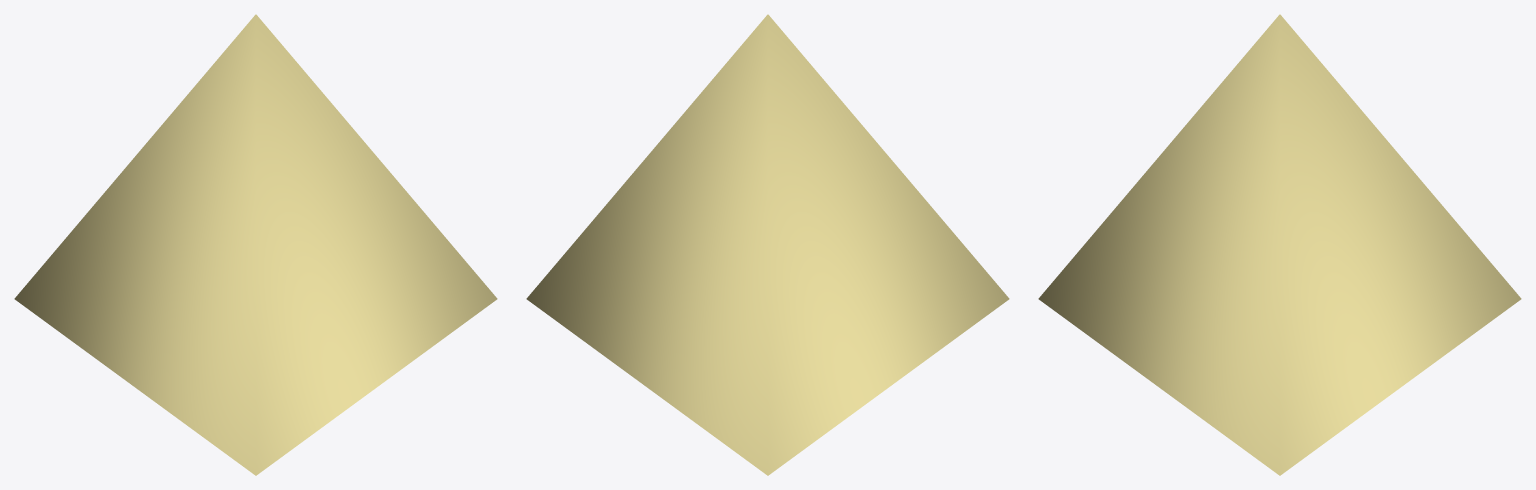
The model's file is Modé_Gemme_Brut_Jaune.FBX.
3 renders of one model, left to right at view 1: azimuth 30°, elevation 25°; view 2: azimuth 150°, elevation 25°; view 3: azimuth 270°, elevation 25°, orthographic.
Parts seen in each view (by area): view 1: Gemme brut jaune; view 2: Gemme brut jaune; view 3: Gemme brut jaune.
Boxes of the visible parts, x1,y1,x2,y2 form: Gemme brut jaune: (14,14,497,475); Gemme brut jaune: (526,14,1009,475); Gemme brut jaune: (1038,14,1521,475).
Size of the model in its own units: 20.37 by 18.47 by 23.52.
